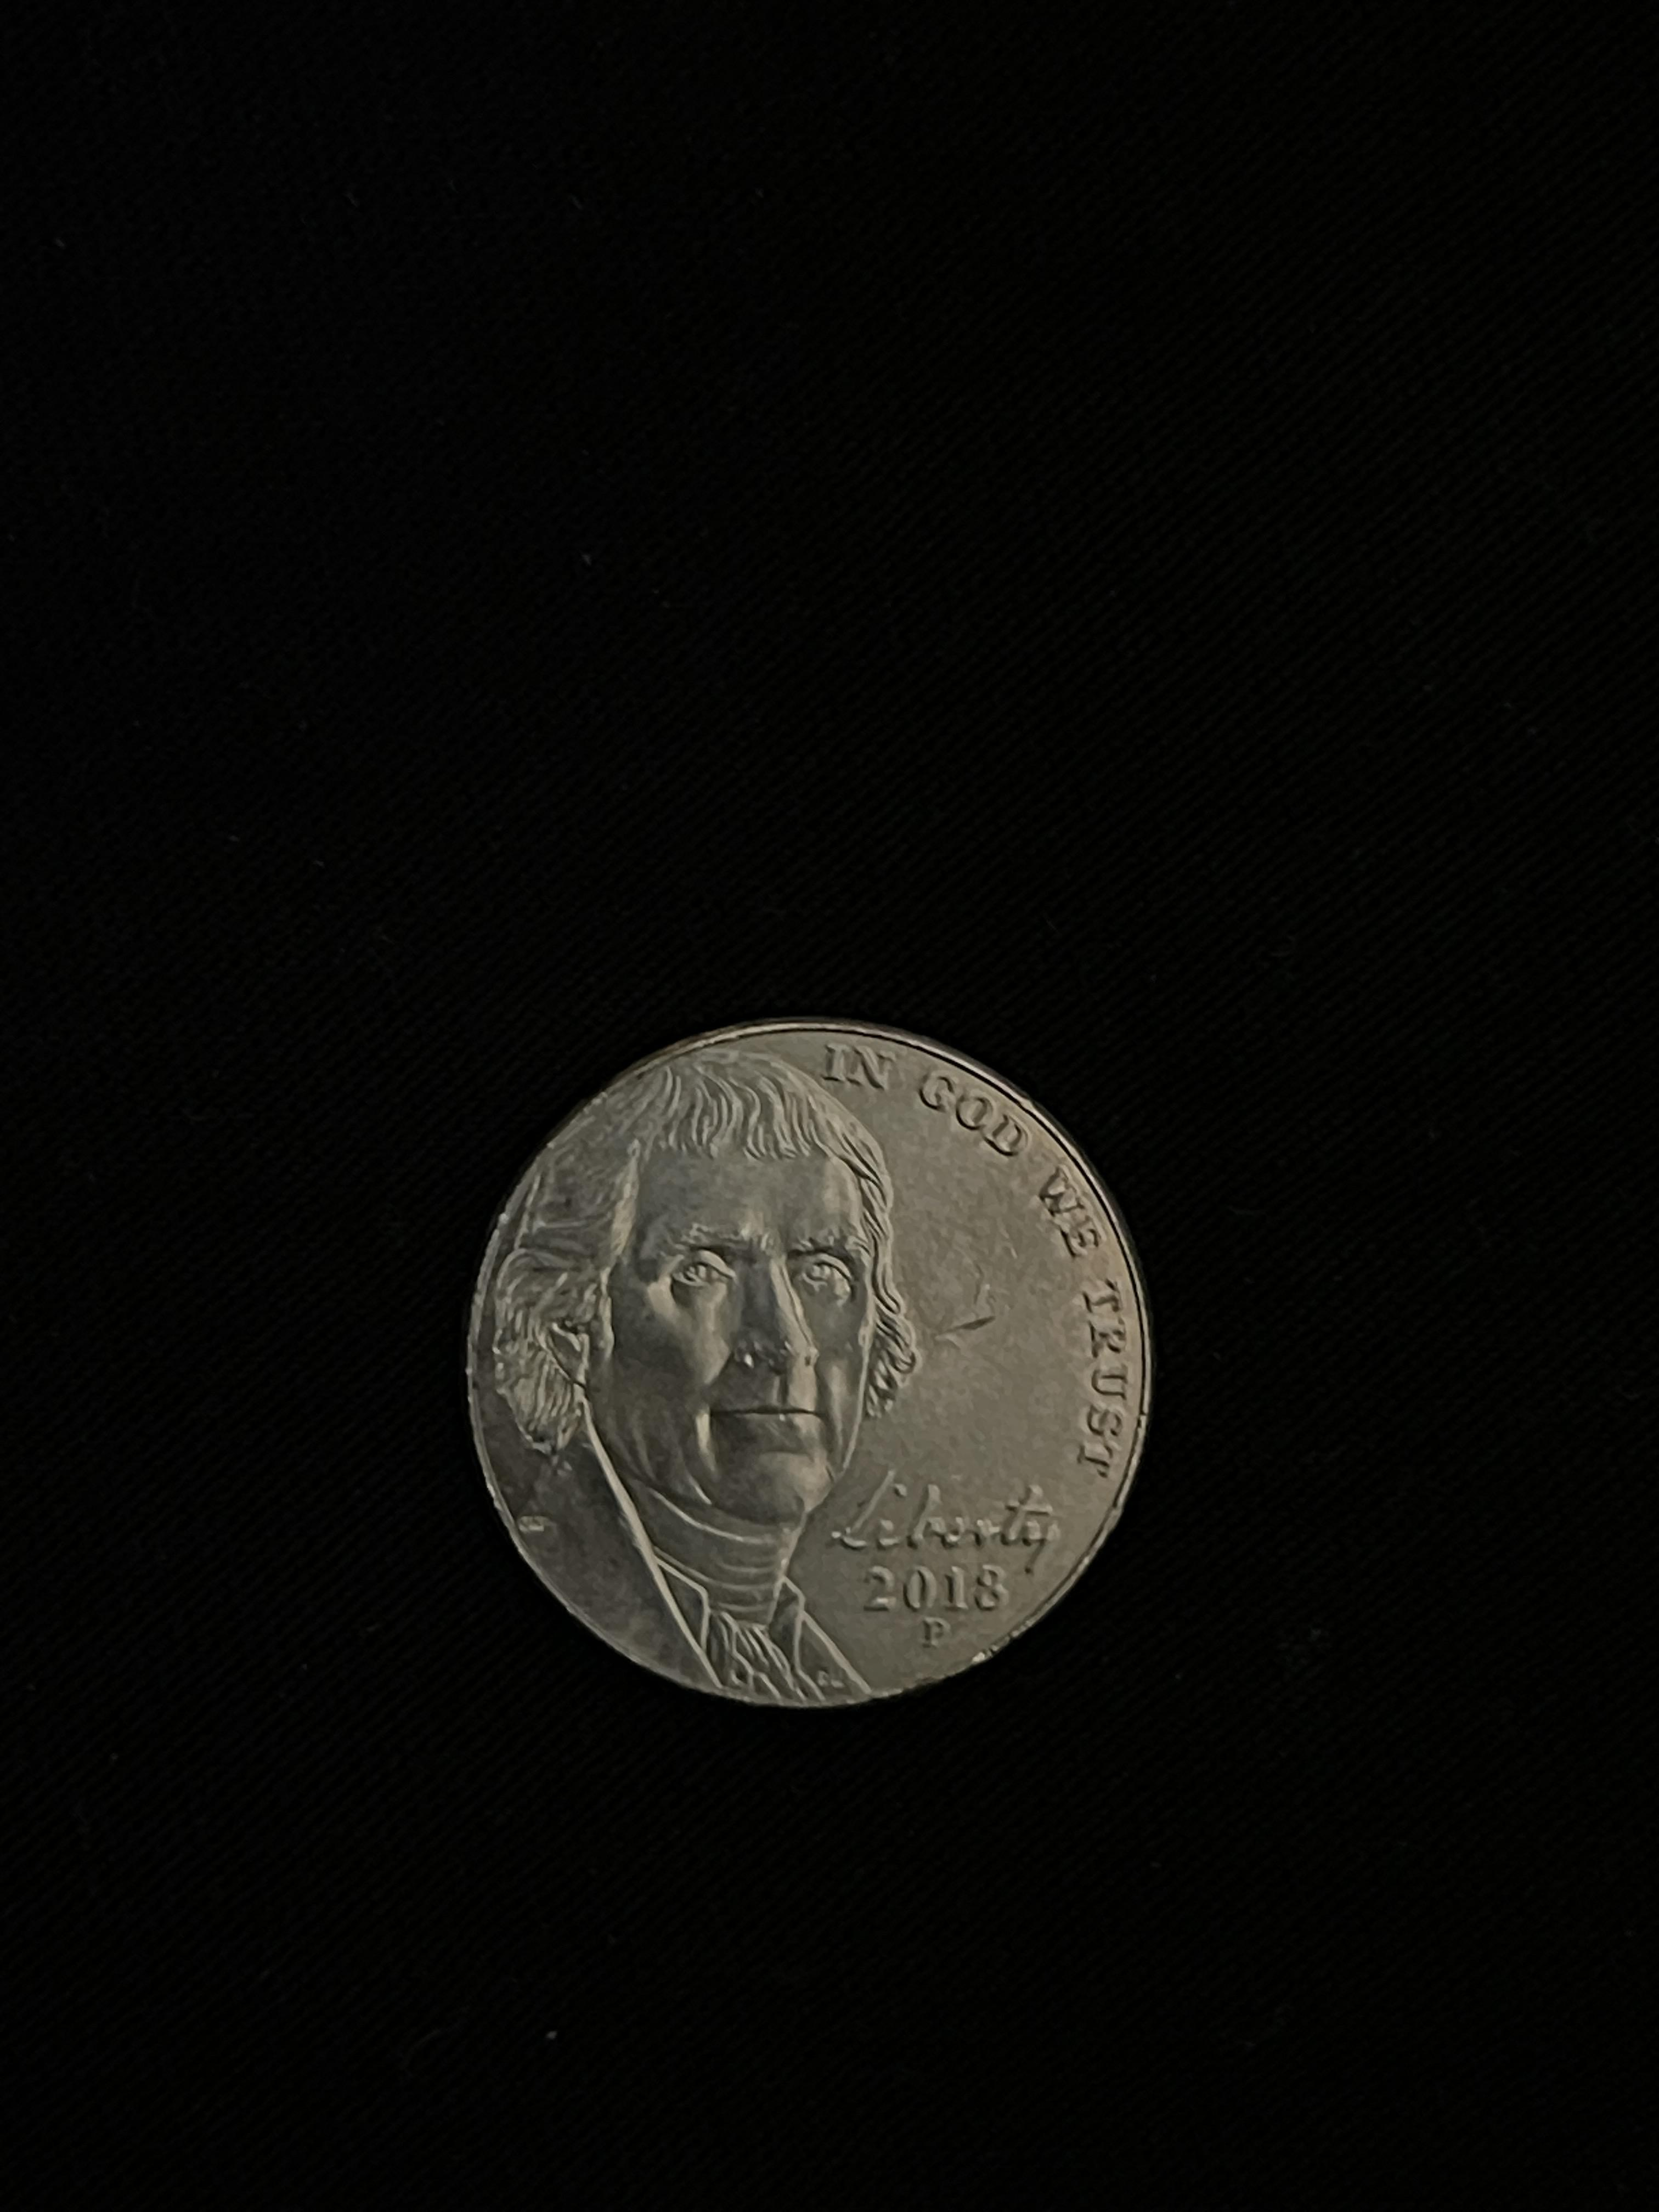Nickel: (462, 1014, 1157, 1714)
